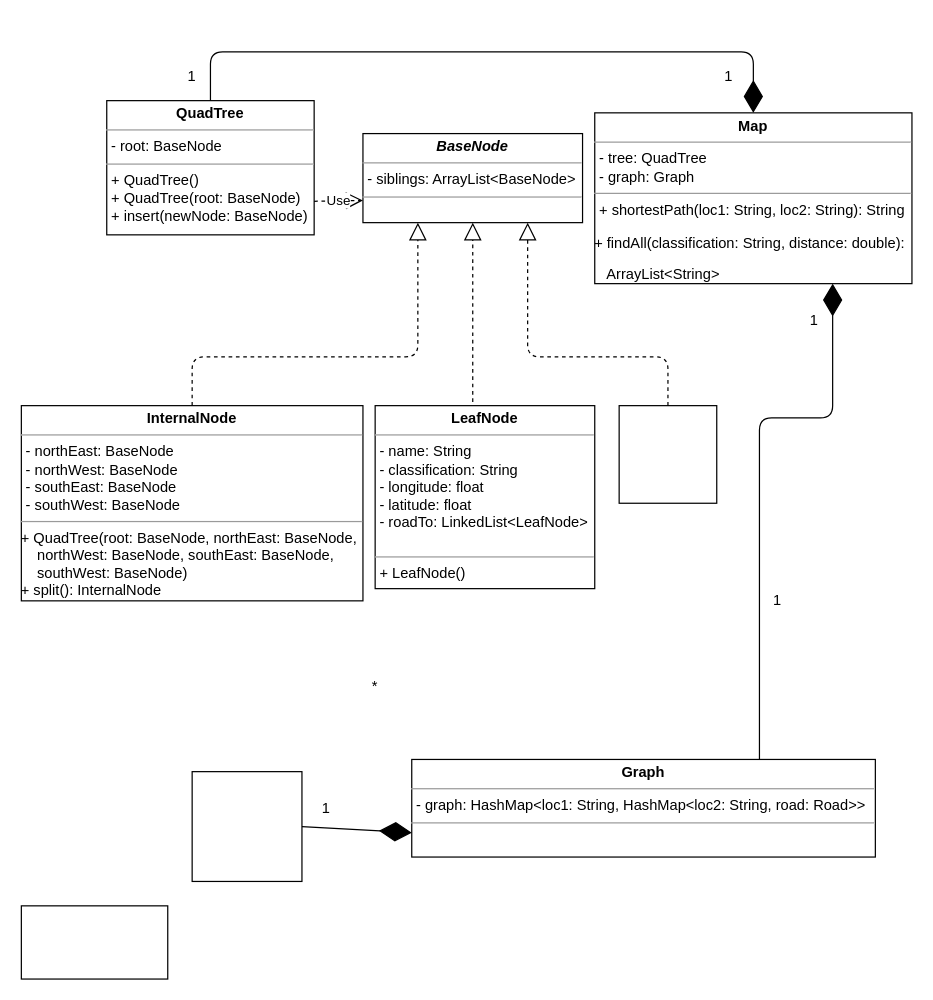
Some shapes in this 933 by 1000 pixel diagram are drawn without their labels. Each missing label, with the centre of its shape:
"EmptyNode" belongs at pixel 667 453.
"Road - dist: int - name: String" belongs at pixel 246 825.
